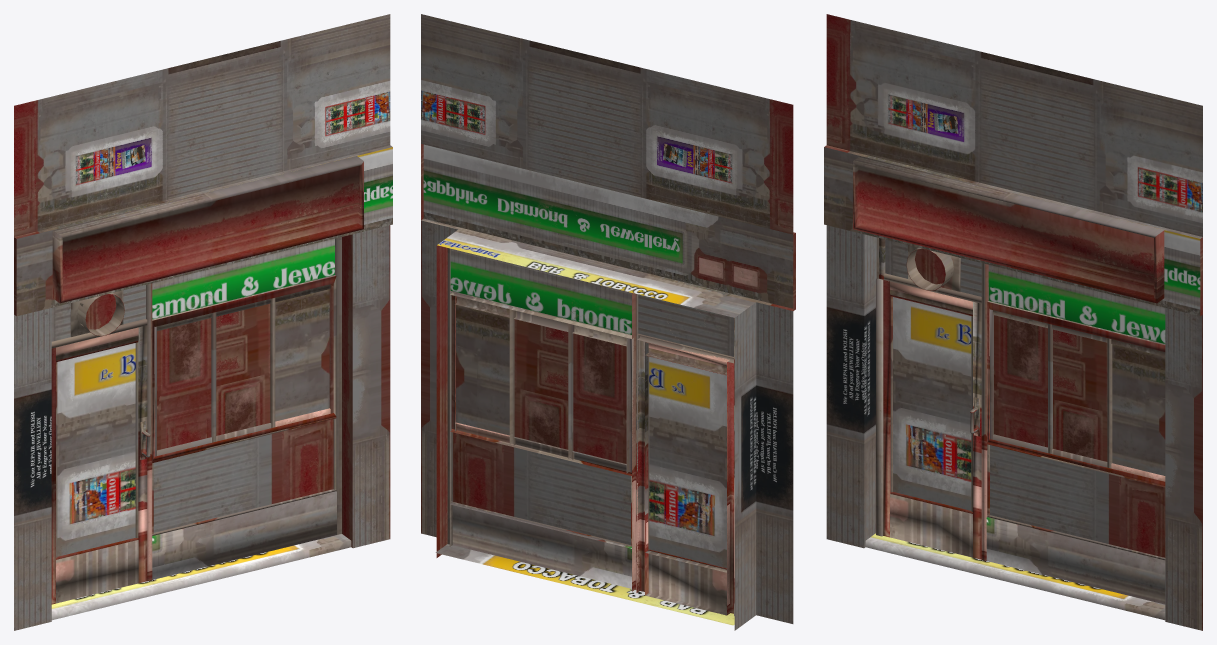
File: sm_slum_storefront03.glb
3 renders of one model, left to right at view 1: azimuth 30°, elevation 25°; view 2: azimuth 150°, elevation 25°; view 3: azimuth 330°, elevation 25°, orthographic.
Parts seen in each view (by area): view 1: sm_slum_storefront03_00; view 2: sm_slum_storefront03_00; view 3: sm_slum_storefront03_00.
Part boxes in pixels (<box>): sm_slum_storefront03_00: <box>14,14,392,630</box>; sm_slum_storefront03_00: <box>421,14,795,630</box>; sm_slum_storefront03_00: <box>824,14,1202,630</box>.
Bounding box in the file's own units: 3 × 4 × 0.4551.
1 material, 1 textured.
